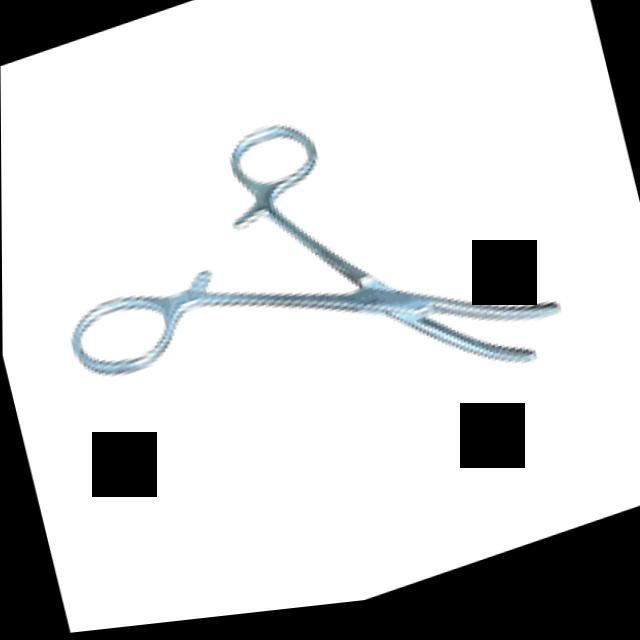Artery Forceps: (27, 32, 576, 530)
